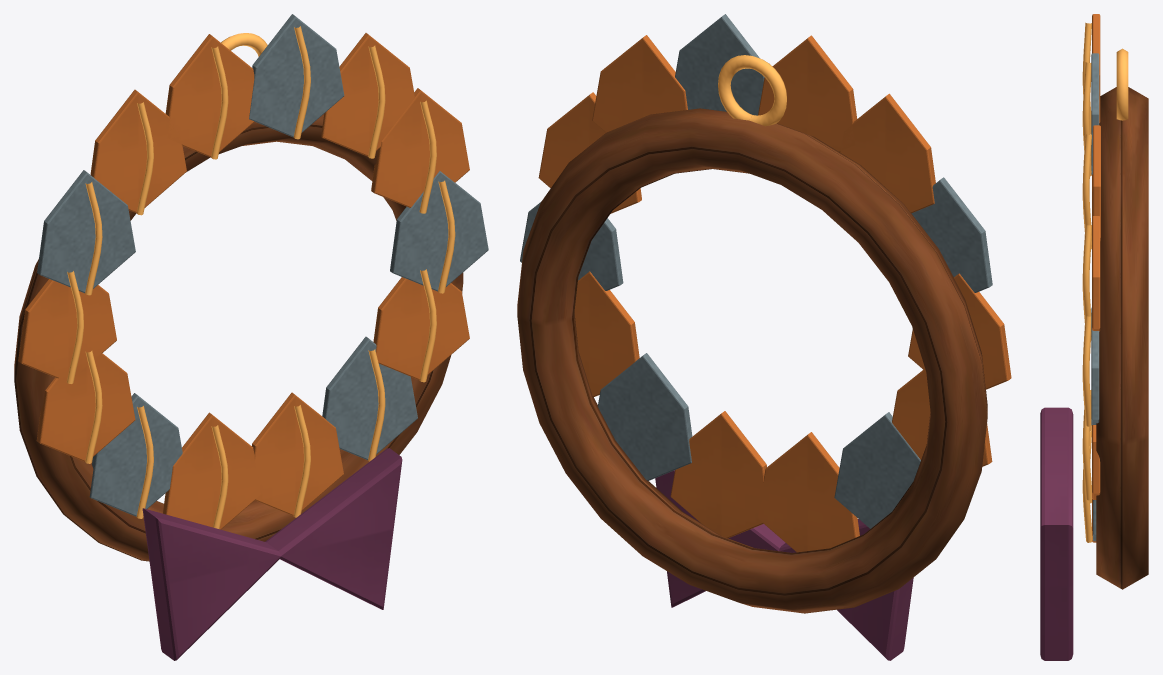
File: hollowwick-halloween-autumn-witch-wreath-5a18809b__21648.glb
3 renders of one model, left to right at view 1: azimuth 30°, elevation 25°; view 2: azimuth 150°, elevation 25°; view 3: azimuth 270°, elevation 25°, orthographic. The views are drawn at different scales.
Parts seen in each view (by area): view 1: autumn-witch-wreath; view 2: autumn-witch-wreath; view 3: autumn-witch-wreath.
Part boxes in pixels (x1,y1,x2,y2): autumn-witch-wreath: (14,14,488,660); autumn-witch-wreath: (517,14,1011,660); autumn-witch-wreath: (1040,14,1148,660).
Bounding box in the file's own units: 0.7802 × 0.9441 × 0.1609.
Materials: 5 (4 with a texture image).
